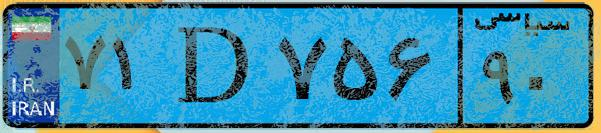0: (525, 38, 570, 115)
1: (110, 28, 158, 98)
5: (330, 28, 385, 110)
6: (385, 28, 445, 110)
7: (270, 28, 330, 110), (57, 26, 110, 100)
9: (475, 38, 525, 113)
D: (158, 12, 270, 120)
